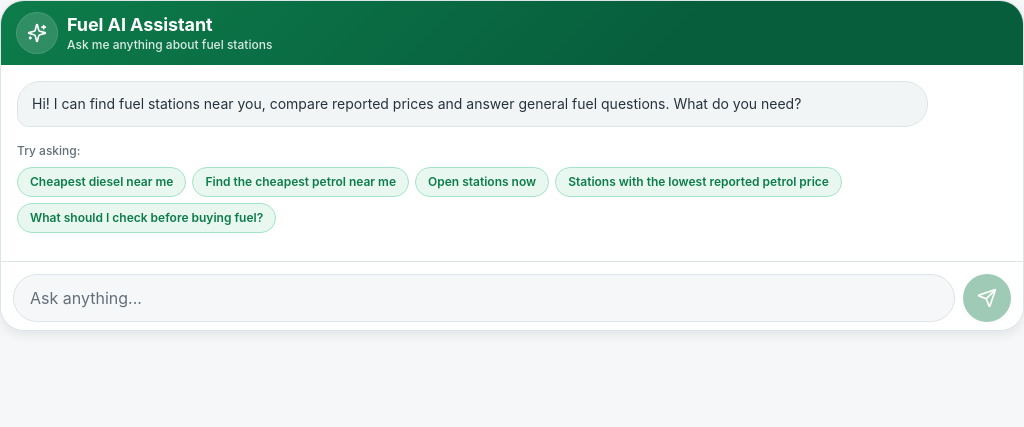
conversational questions › labels a deterministic fallback instead of passing it off as AI
Type "Hello there" into the field named "Ask Fuel AI" at (484, 298), box [13,274,955,322]
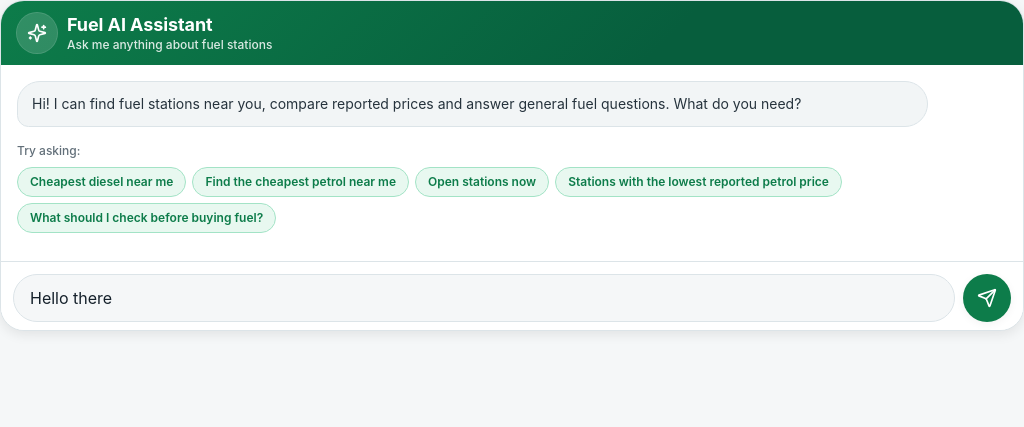
Click the button named "ask fuel ai" at (987, 298), box [963,274,1011,322]
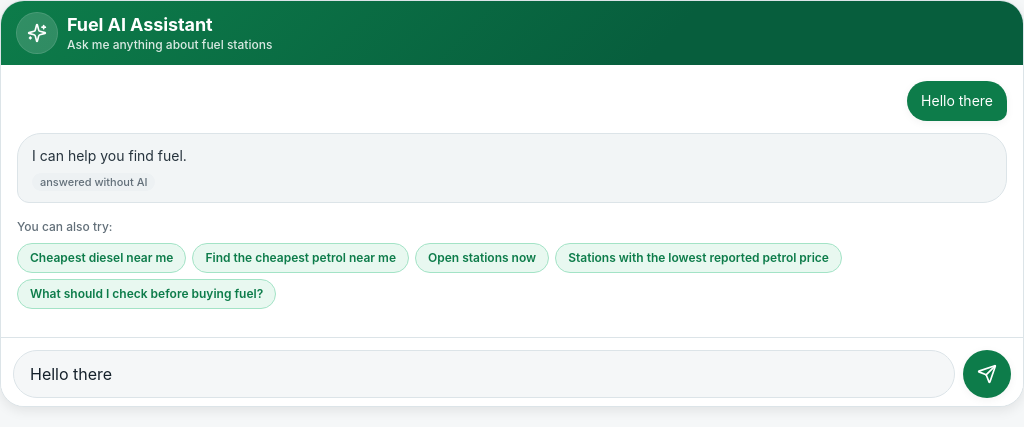
expect the element with test id "ai-answer-source" reads "answered without AI": met, box [40,175,147,189]
